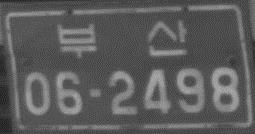-: (87, 84, 104, 101)
0: (22, 71, 51, 114)
2: (108, 68, 140, 116)
4: (140, 67, 173, 116)
6: (54, 69, 82, 117)
8: (209, 64, 242, 115)
9: (175, 66, 207, 115)
부산_D: (55, 17, 189, 61)
